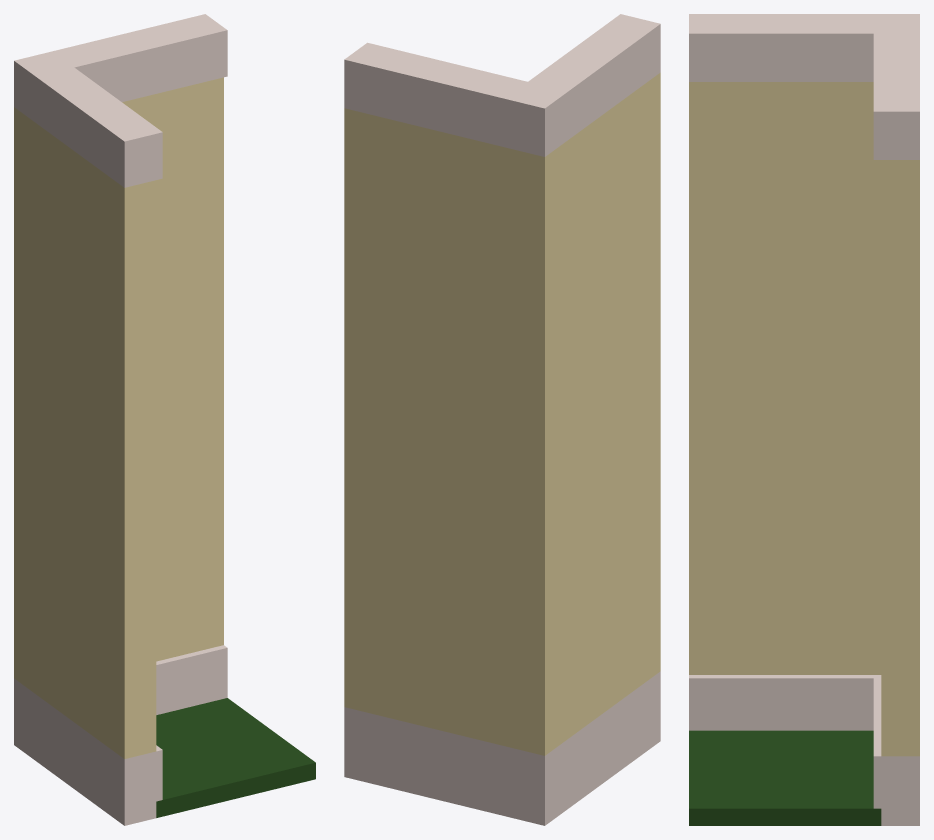
Rendered from Corner Wall.fbx.
3 views of the same model, side by side, from view 1: azimuth 30°, elevation 25°; view 2: azimuth 150°, elevation 25°; view 3: azimuth 270°, elevation 25° (orthographic). The views are drawn at different scales.
Parts seen in each view (by area): view 1: Corner; view 2: Corner; view 3: Corner.
Part boxes in pixels (<box>): Corner: <box>14,14,315,825</box>; Corner: <box>344,14,660,825</box>; Corner: <box>689,14,919,825</box>.
Bounding box in the file's own units: 60 × 205 × 60.
